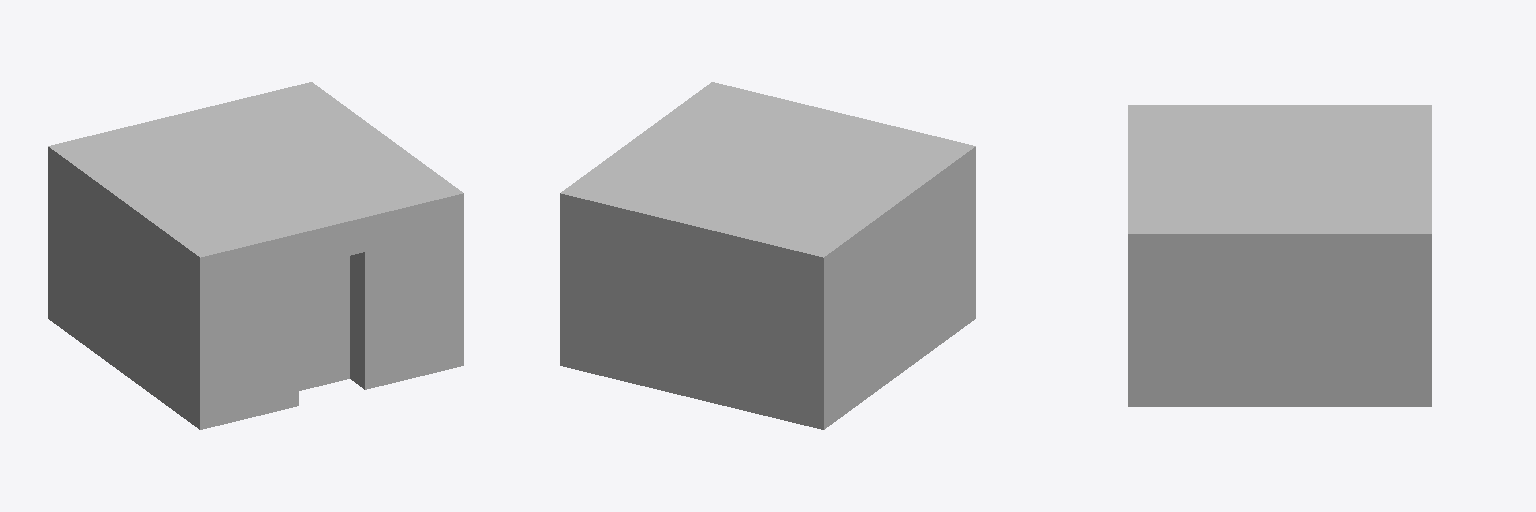
The model's file is building-door.obj.
3 renders of one model, left to right at view 1: azimuth 30°, elevation 25°; view 2: azimuth 150°, elevation 25°; view 3: azimuth 270°, elevation 25°, orthographic.
Parts seen in each view (by area): view 1: building-door; view 2: building-door; view 3: building-door.
Boxes of the visible parts, box(x1,y1,x2,y2) form: building-door: box(48, 82, 463, 429); building-door: box(560, 82, 975, 429); building-door: box(1128, 105, 1431, 406).
Bounding box in the file's own units: 1 × 0.625 × 1.